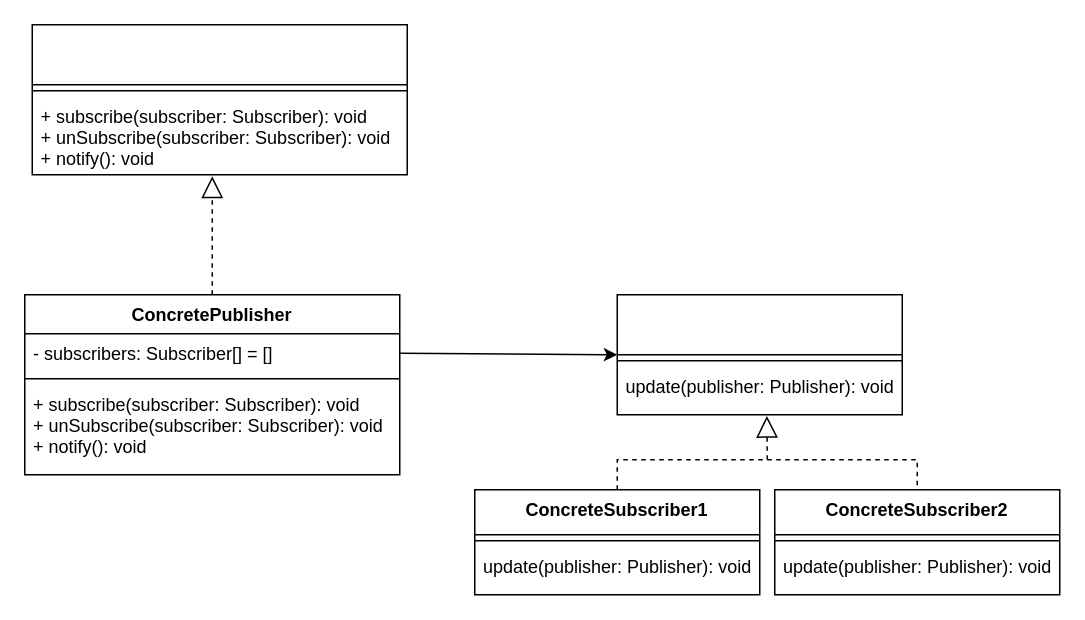
This 1085x620 diagram has some shape labels left out. The shapes that lost their labels are listed below. From the top down, each one's box as (x1, y1, x2, y2) in pixels, then its label:
(31, 23, 407, 175): interface Publisher
(616, 293, 902, 415): interface Subscriber
